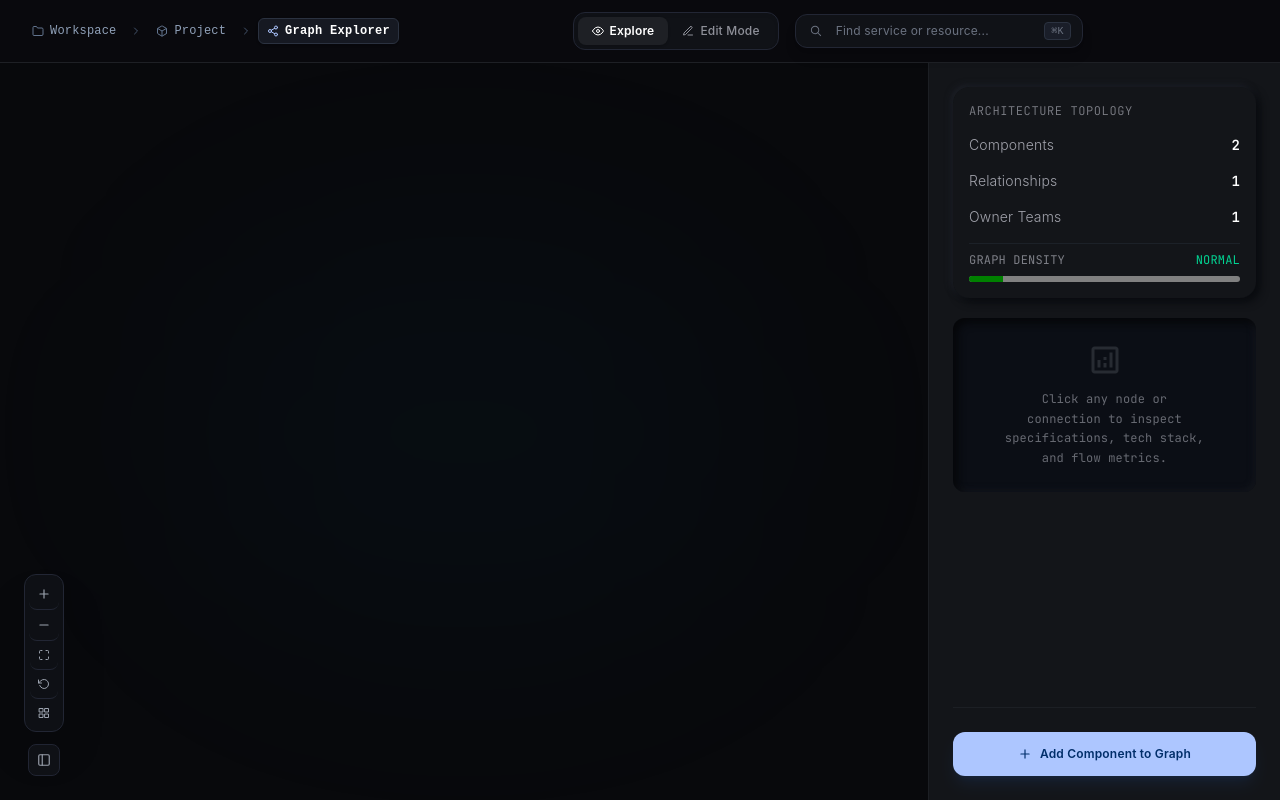
Test: Graph Explorer & Interactive Architecture Graph › toggles between Explore Mode and Edit Mode with banner indicators
This screenshot has width=1280, height=800.
Switch to Edit mode
Click the button "Edit Mode": {"x": 721, "y": 31} [668,17,774,45]
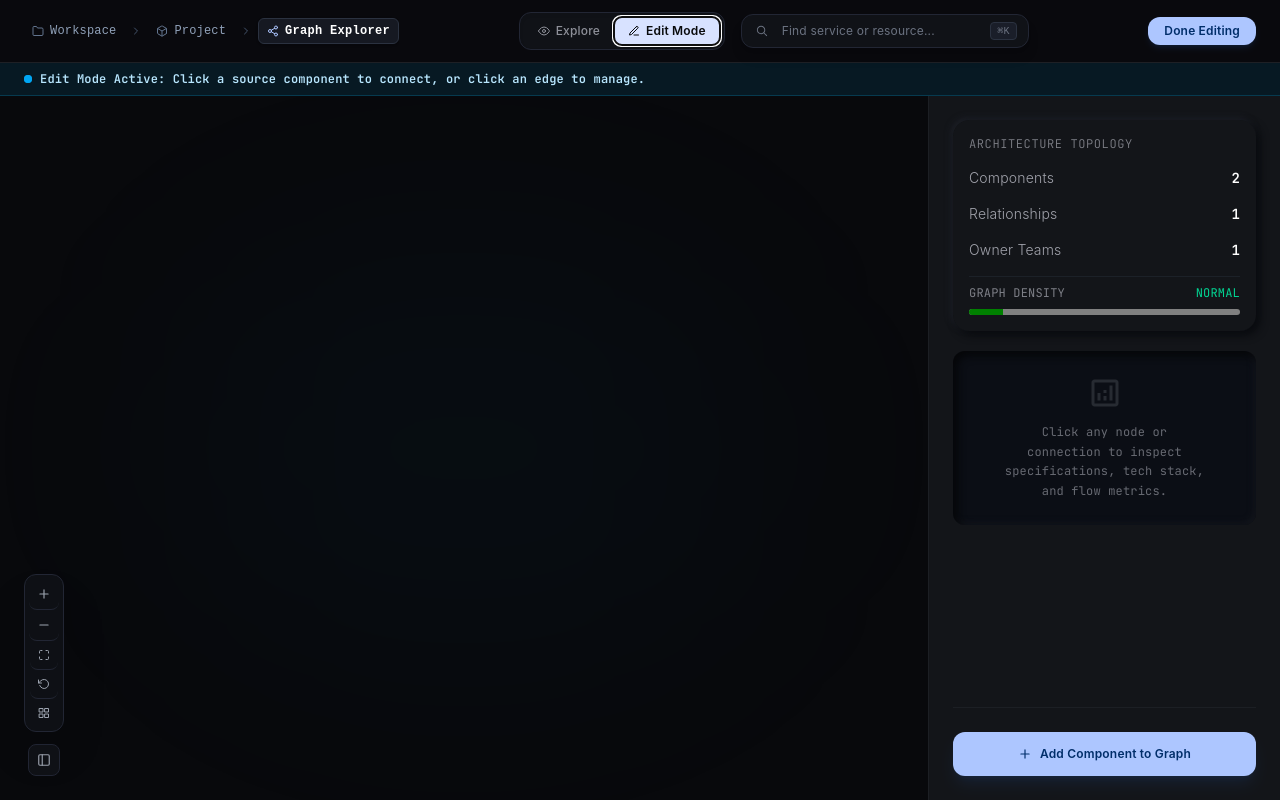
Expected: the text "Edit Mode Active" is shown, [40,71,645,87]
Expected: the button "Done Editing" is shown
Switch back
Click the button "Done Editing": {"x": 1202, "y": 31} [1148,17,1256,45]
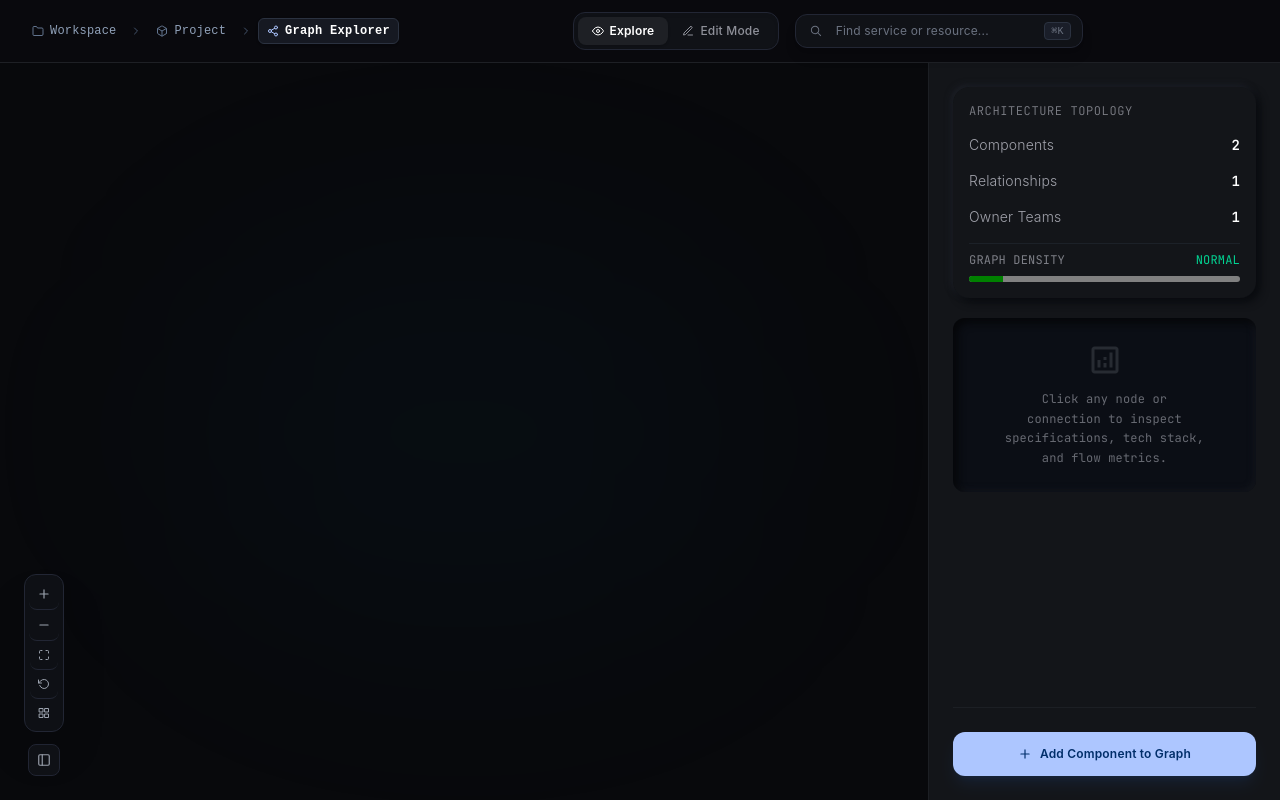
Expected: the text "Edit Mode Active" is gone
